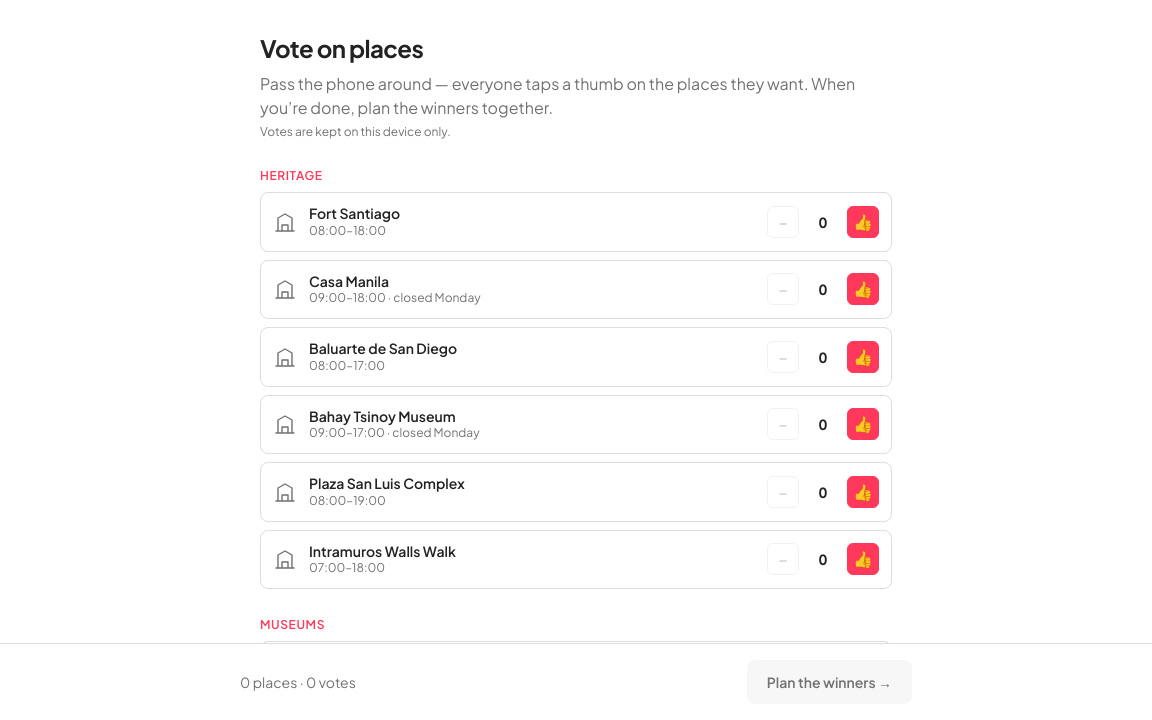
Scenario: VoteView › casts a vote and updates the tally + count badge
The width and height of the screenshot is (1152, 720).
Click the button "👍" in the row of "Fort Santiago" at point(863, 222), box [847,206,879,238]
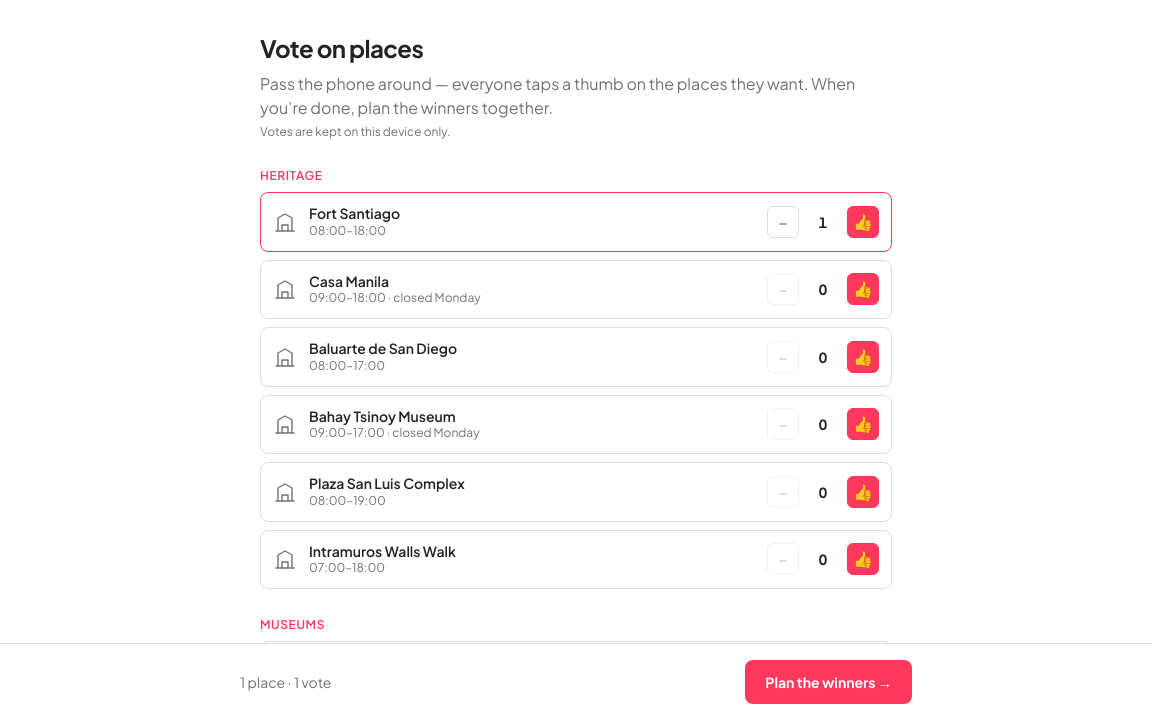
Check: the text "1 place · 1 vote" is shown, box [240,672,331,692]
